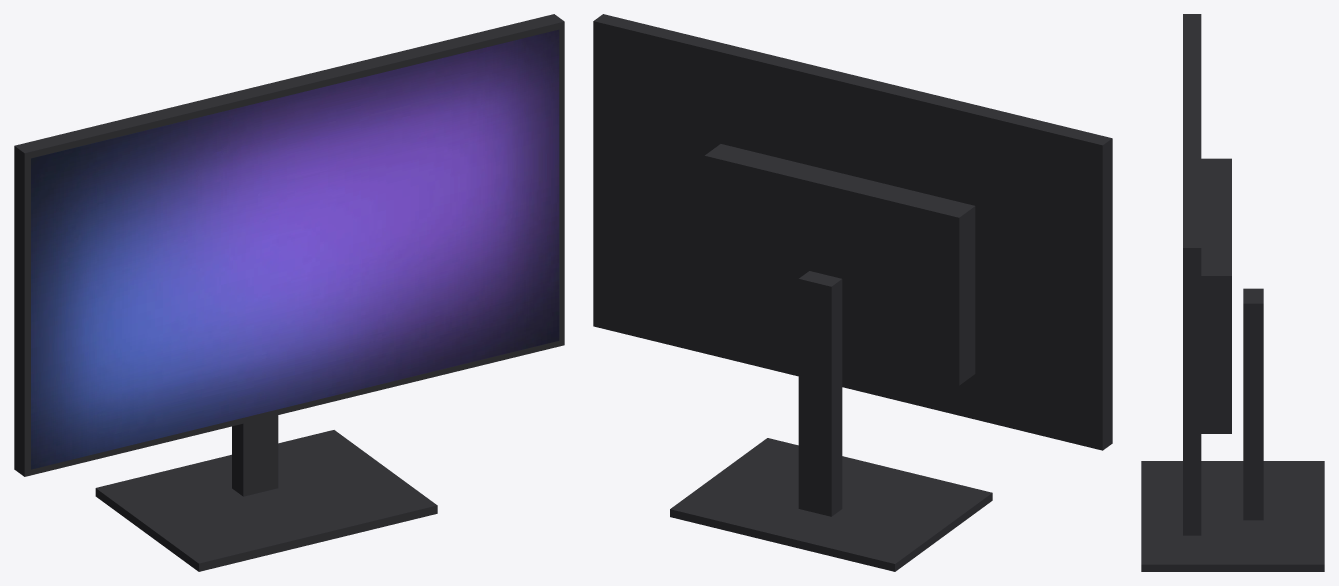
The model's file is obj-monitor-24.glb.
The picture shows the model from 3 angles, left to right: view 1: azimuth 30°, elevation 25°; view 2: azimuth 150°, elevation 25°; view 3: azimuth 270°, elevation 25°; orthographic projection. The views are drawn at different scales.
Parts seen in each view (by area): view 1: obj-monitor-24; view 2: obj-monitor-24; view 3: obj-monitor-24.
Part boxes in pixels (x1,y1,x2,y2): obj-monitor-24: (14,14,564,571); obj-monitor-24: (593,14,1112,571); obj-monitor-24: (1141,14,1324,571).
Bounding box in the file's own units: 0.543 × 0.421 × 0.18.
2 materials, 1 textured.
